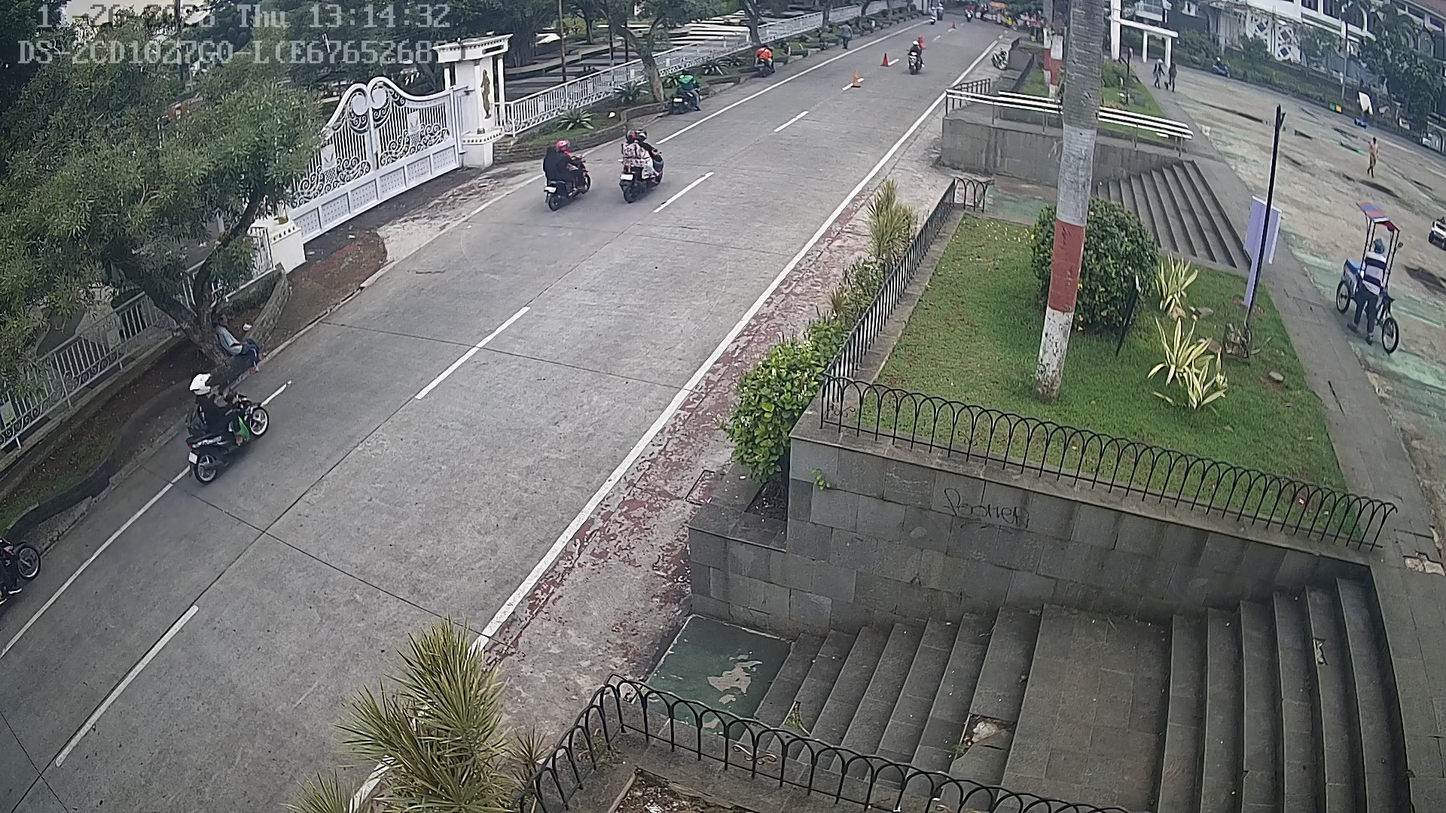Gerobak: (1326, 198, 1404, 355)
